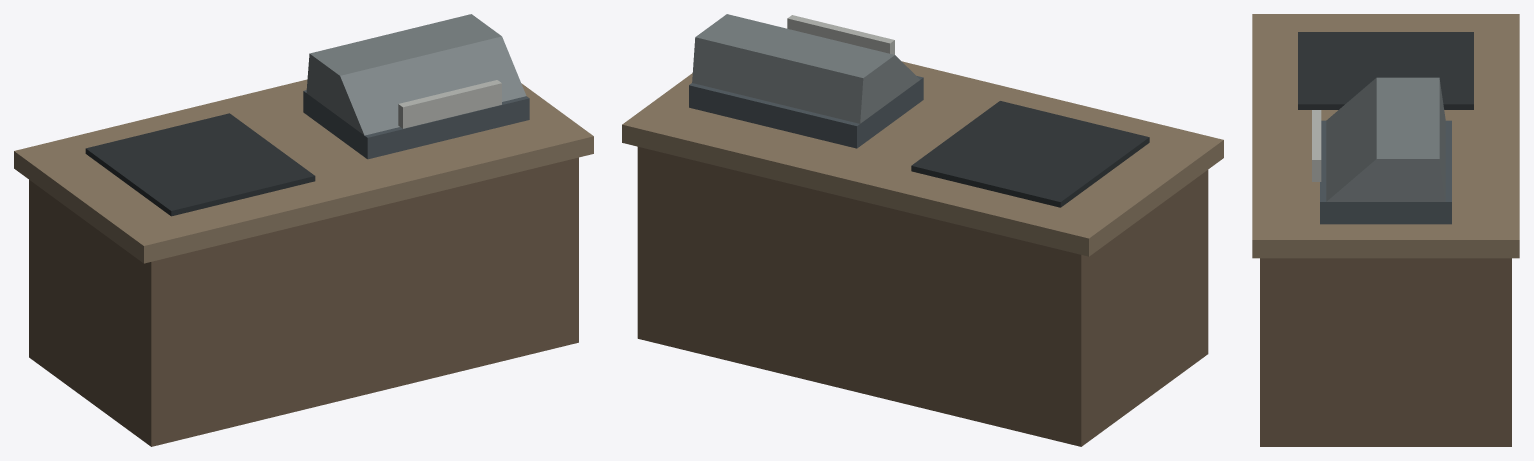
Rendered from checkout.glb.
3 renders of one model, left to right at view 1: azimuth 30°, elevation 25°; view 2: azimuth 150°, elevation 25°; view 3: azimuth 270°, elevation 25°, orthographic. The views are drawn at different scales.
Visible parts, largest first — view 1: checkout; view 2: checkout; view 3: checkout.
Boxes of the visible parts, left/top/right/bottom form: checkout: left=14, top=14, right=593, bottom=446; checkout: left=622, top=14, right=1223, bottom=446; checkout: left=1252, top=14, right=1519, bottom=446.
Size of the model in its own units: 1.92 by 1.1 by 0.96.
